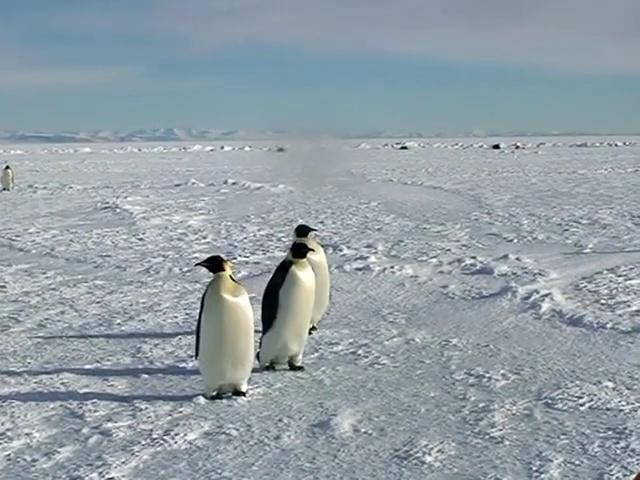animal: (295, 225, 331, 334)
